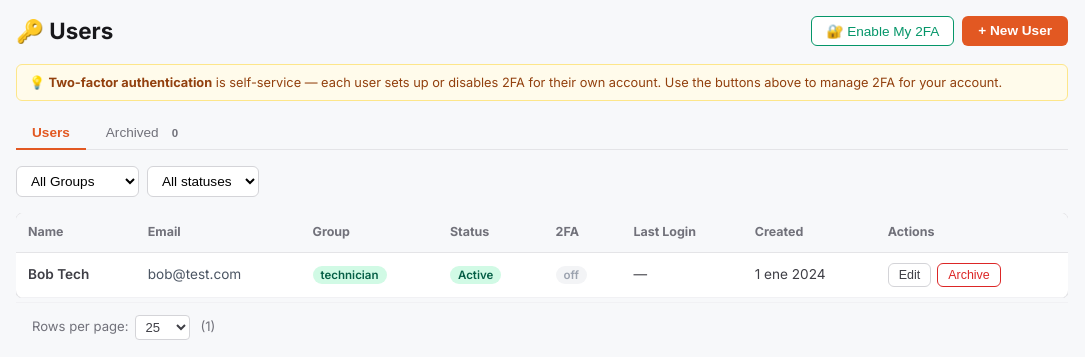
Test: UserList page › Archive action (main tab) + Archived tab › shows the empty state when there are no archived users
Expected: the text "bob@test.com" is shown, [136, 252, 300, 297]
Click the tab "Archived0". click: (145, 133)
box: [90, 117, 201, 150]
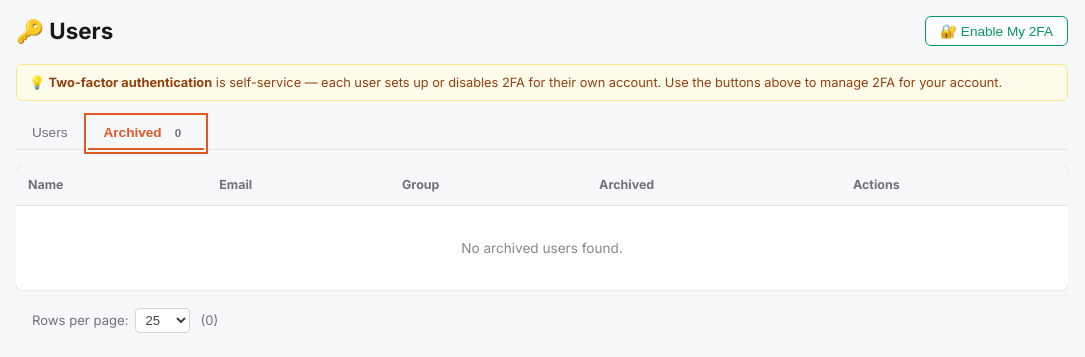
Expected: the text "No archived users found." is shown, [16, 205, 1068, 290]
